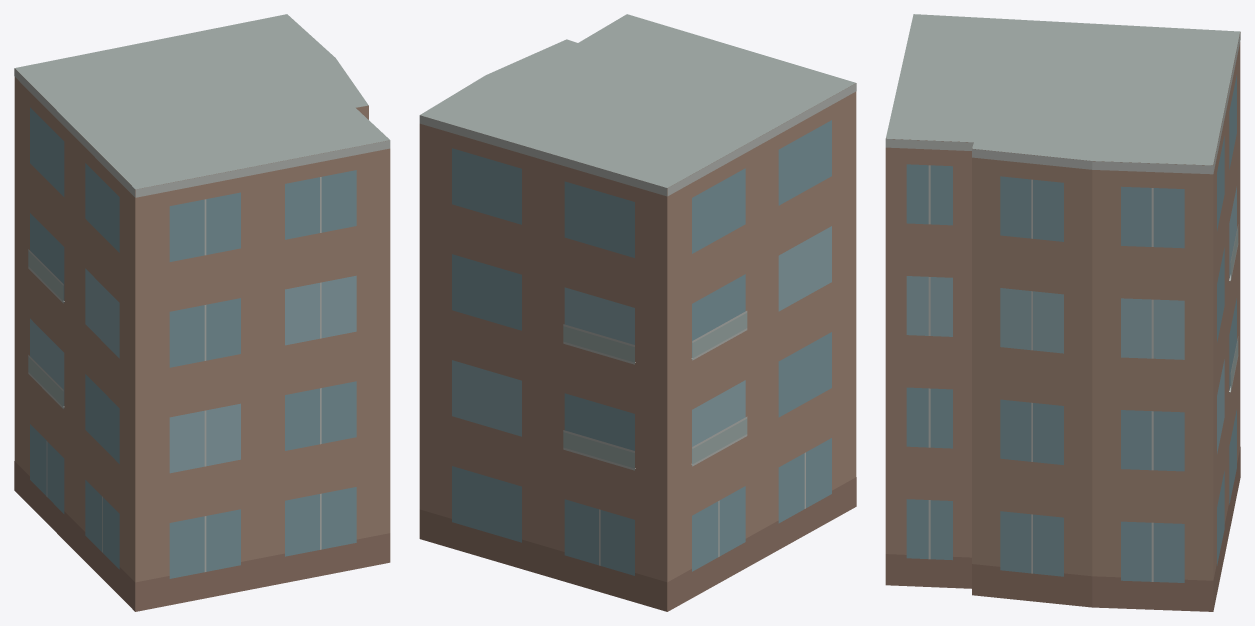
File: survey-upis-32463447.glb
3 views of the same model, side by side, from view 1: azimuth 30°, elevation 25°; view 2: azimuth 150°, elevation 25°; view 3: azimuth 270°, elevation 25° (orthographic). The views are drawn at different scales.
Visible parts, largest first — view 1: survey-upis-32463447.tmp; view 2: survey-upis-32463447.tmp; view 3: survey-upis-32463447.tmp.
Part boxes in pixels (x1,y1,x2,y2): survey-upis-32463447.tmp: [14, 14, 390, 611]; survey-upis-32463447.tmp: [419, 14, 856, 611]; survey-upis-32463447.tmp: [885, 14, 1240, 611].
Size of the model in its own units: 8.95 by 12.29 by 8.86.
